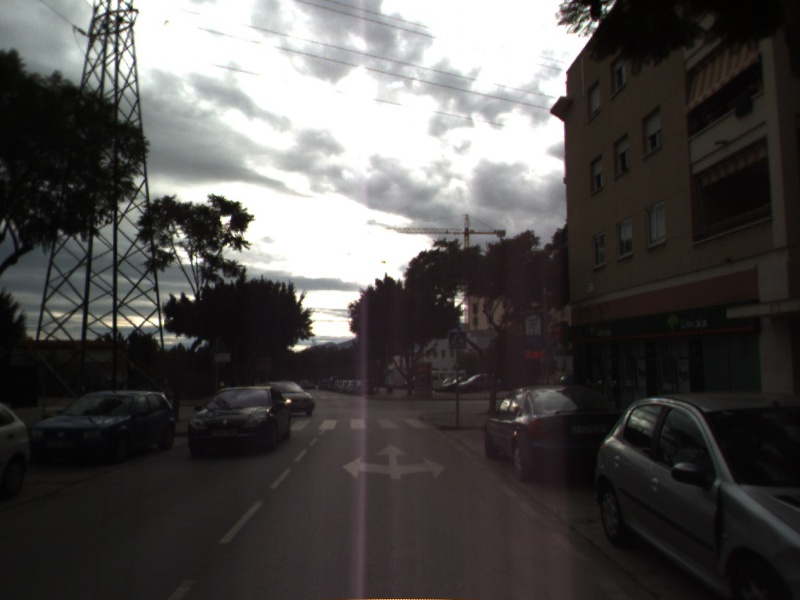STRAIGHT_LEFT_RIGHT: (340, 441, 448, 482)
